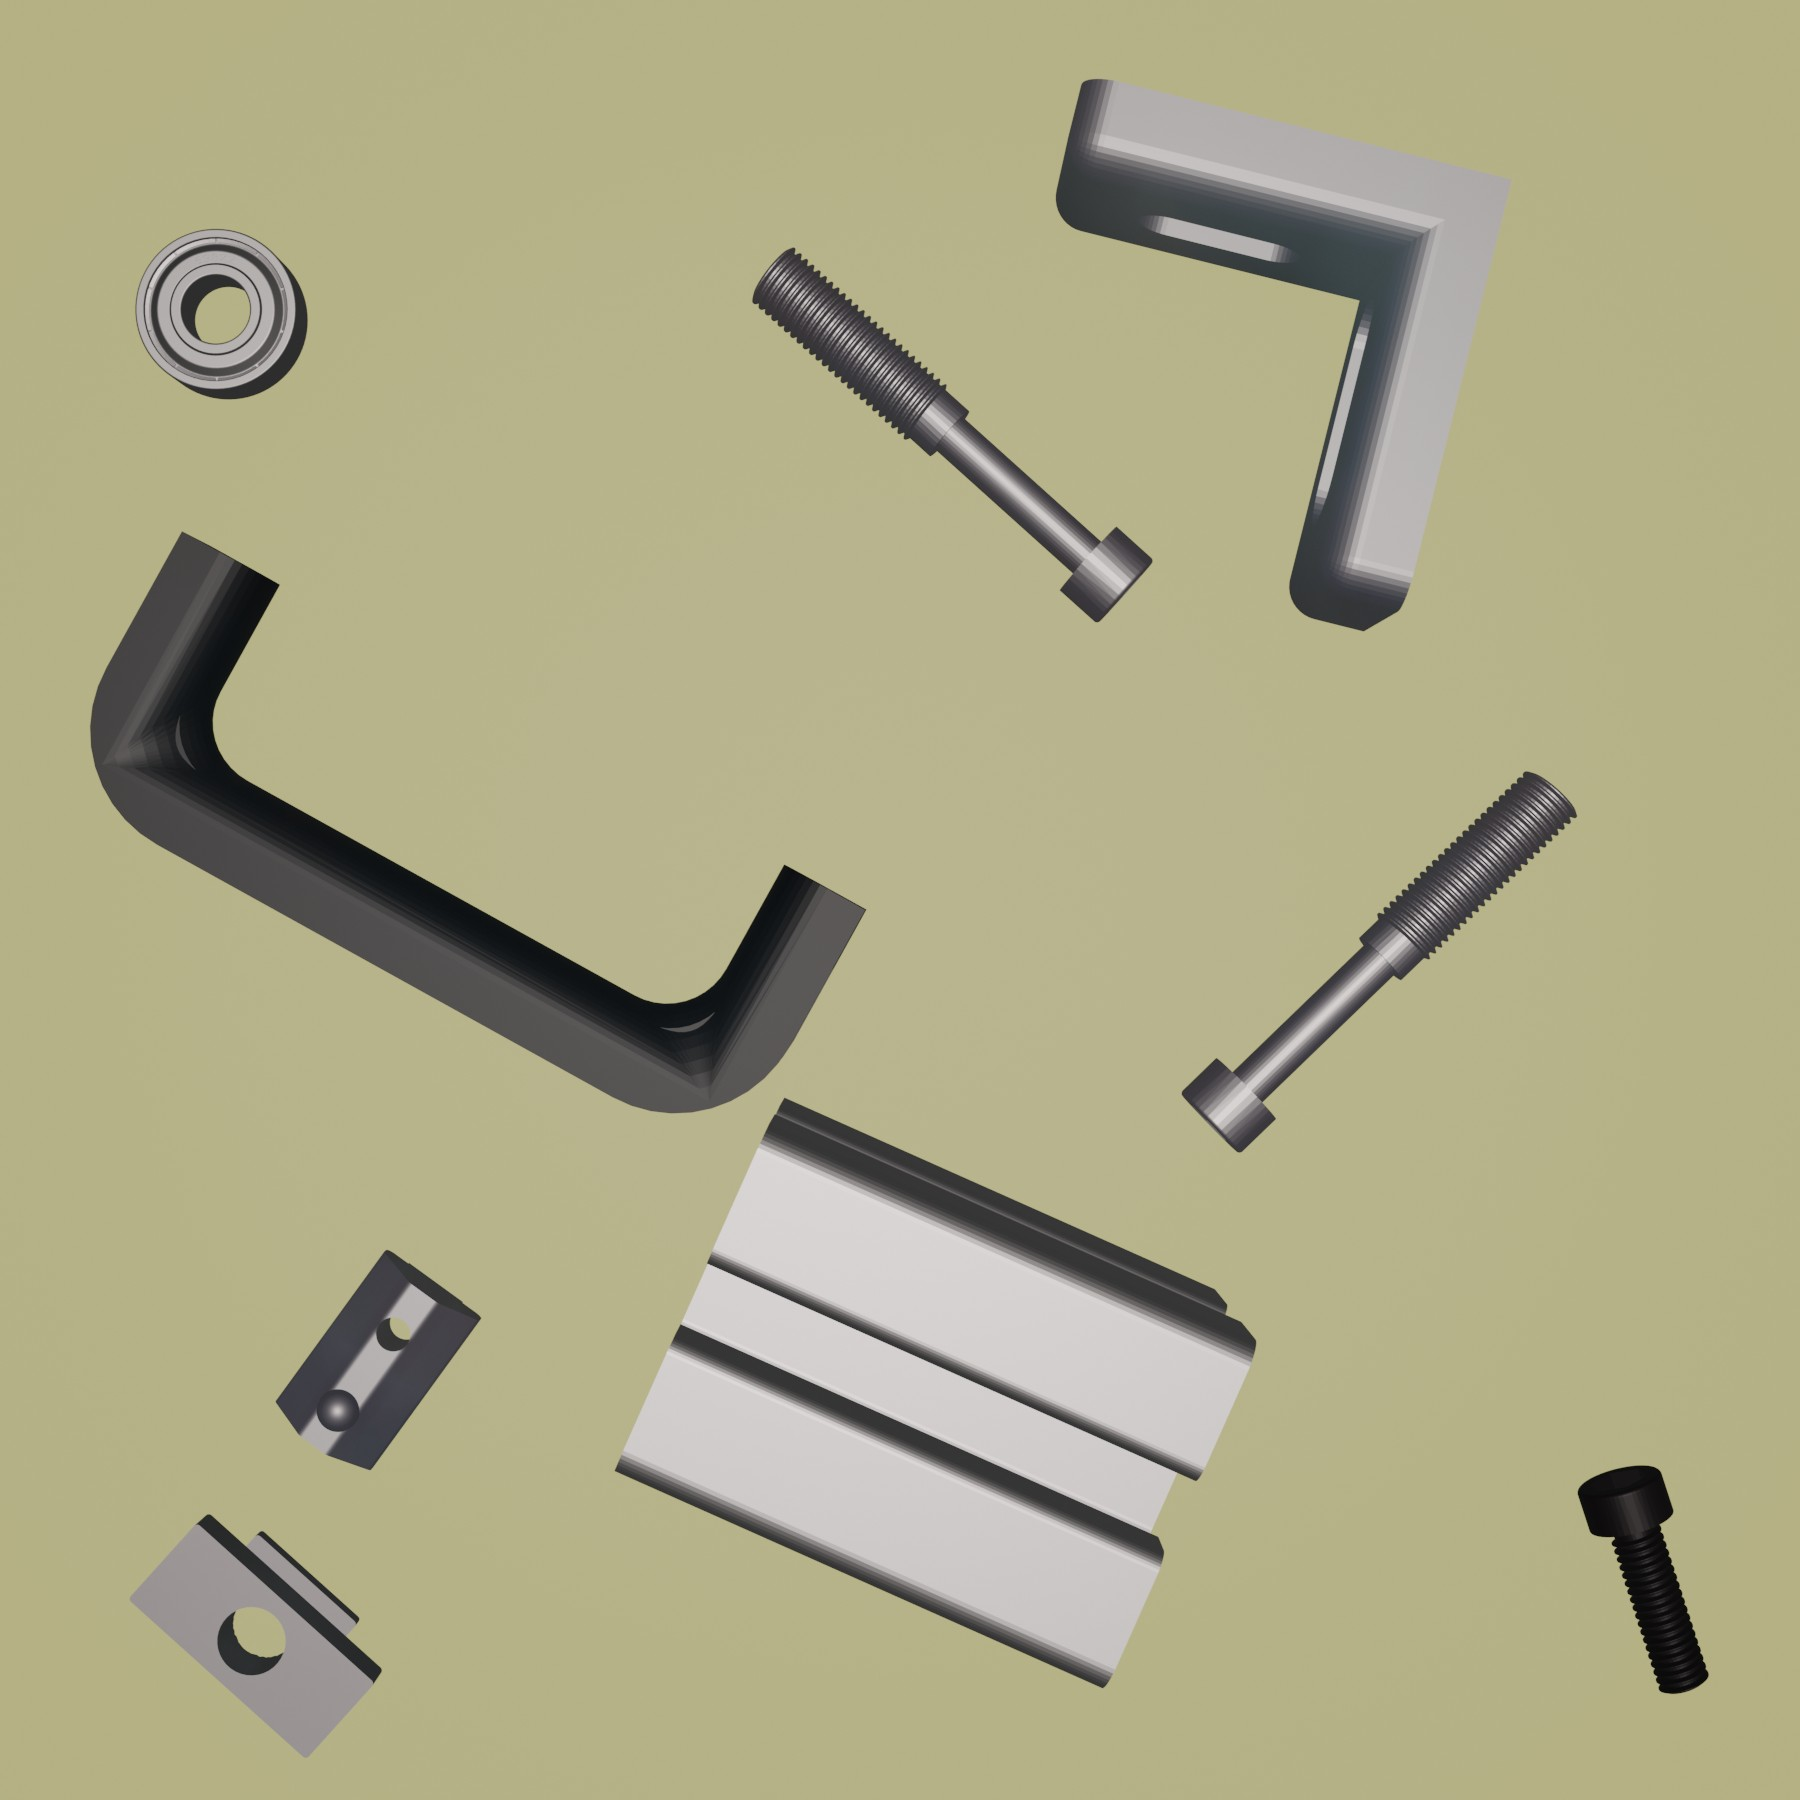Aluminium Extension: (612, 1095, 1259, 1691)
Ball Bearing: (130, 223, 308, 401)
Multiwinkel: (1050, 74, 1512, 631)
Pull Handle: (87, 531, 867, 1116)
Shoulder Socket Head Cap Screw: (1179, 763, 1577, 1155), (748, 242, 1154, 626)
Socket Head Cap Screw: (1574, 1462, 1711, 1698)
T Nut Square: (124, 1508, 386, 1759)
T Spring Nut: (274, 1245, 481, 1472)
